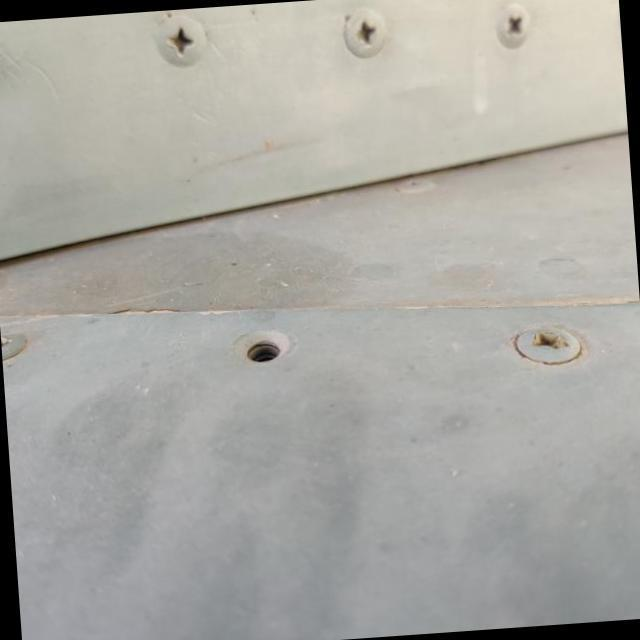Fastener Damage: (217, 306, 314, 389)
